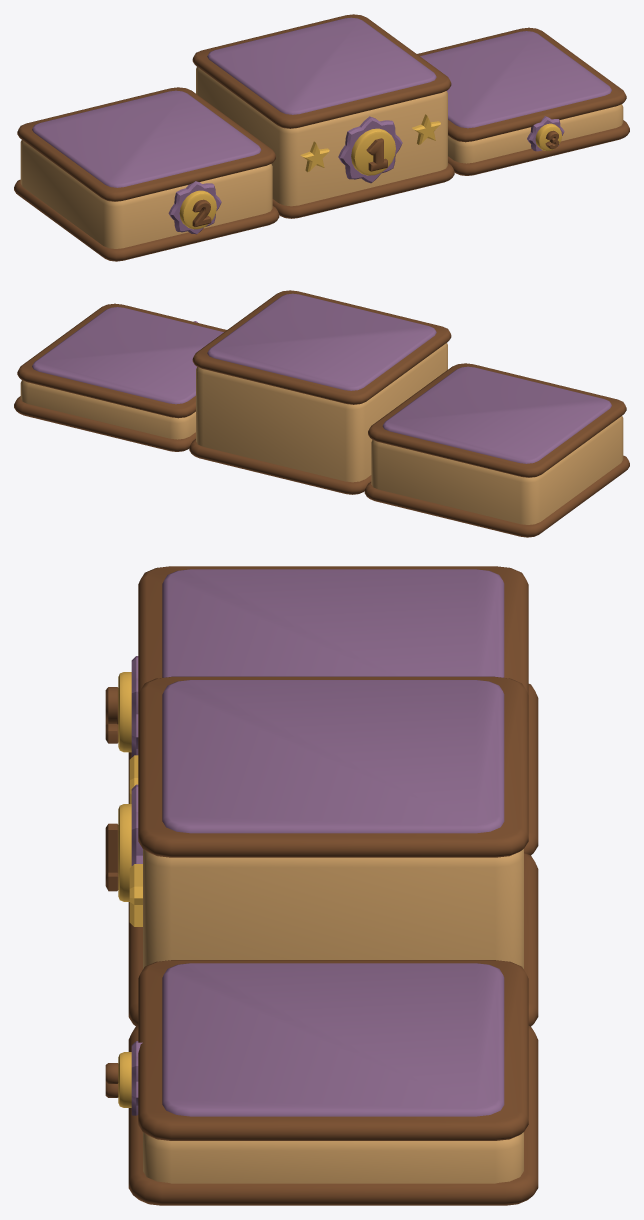
File: ShopPrizePodium.fbx
The picture shows the model from 3 angles, top to bottom: view 1: azimuth 30°, elevation 25°; view 2: azimuth 150°, elevation 25°; view 3: azimuth 270°, elevation 25°; orthographic projection. The views are drawn at different scales.
Visible parts, largest first — view 1: ShopPrizePodium; view 2: ShopPrizePodium; view 3: ShopPrizePodium.
Boxes of the visible parts, x1,y1,x2,y2 form: ShopPrizePodium: (14, 14, 629, 261); ShopPrizePodium: (14, 290, 629, 537); ShopPrizePodium: (105, 566, 538, 1205).
Size of the model in its own units: 2.55 by 0.462 by 0.908.
